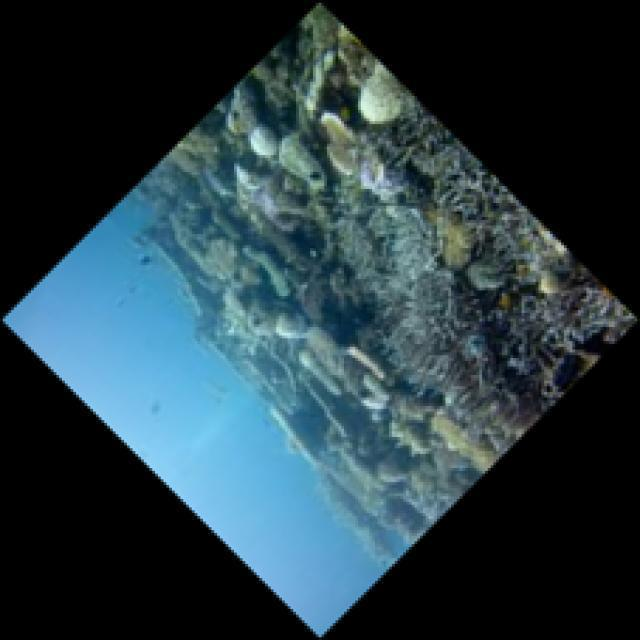Dead Coral: (391, 242, 503, 424), (369, 92, 505, 235), (505, 259, 625, 362)
